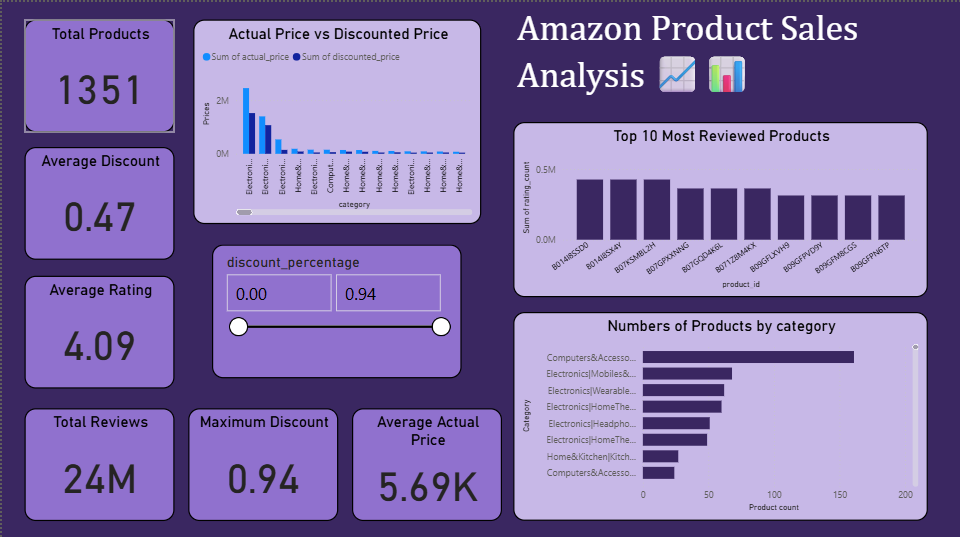

This screenshot's page, from the dashboard's own definition file:
{"tool":"powerbi","page":{"name":"Page 1","canvas":[1280,720],"ordinal":0},"visuals":[{"type":"card","title":"Average Discount","fields":{"Values":["amazon.Avg Discount"]},"box":[30,193.3,200,150],"z":0},{"type":"card","title":"Total Products","fields":{"Values":["amazon.Total Products"]},"box":[30,23.3,200,150],"z":1000},{"type":"card","title":"Average Rating","fields":{"Values":["amazon.Avg Rating"]},"box":[30,365,200,150],"z":2000},{"type":"card","title":"Total Reviews","fields":{"Values":["amazon.Total Reviews"]},"box":[30,541.4,200,150],"z":3000},{"type":"clusteredBarChart","title":"Numbers of Products by category","fields":{"Category":["amazon.category"],"Y":["CountNonNull(amazon.product_id)"]},"box":[681.2,412.5,552.5,278.8],"z":4000},{"type":"clusteredColumnChart","title":"Actual Price vs Discounted Price","fields":{"Category":["amazon.category"],"Y":["Sum(amazon.actual_price)","Sum(amazon.discounted_price)"]},"box":[255.7,22.9,384.3,272.9],"z":5000},{"type":"card","title":"Maximum Discount","fields":{"Values":["amazon.Maximum Discount"]},"box":[248.6,541.4,200,150],"z":6000},{"type":"slicer","fields":{"Values":["amazon.discount_percentage"]},"box":[280,322.9,332.9,178.6],"z":7000},{"type":"card","title":"Average Actual Price","fields":{"Values":["amazon.Avg Actual Price"]},"box":[467.1,541.4,200,150],"z":7001},{"type":"textbox","box":[681.2,0,553.8,136.2],"z":7002},{"type":"image","box":[870,223.8,230,71.2],"z":7003},{"type":"clusteredColumnChart","title":"Top 10 Most Reviewed Products","fields":{"Y":["Sum(amazon.rating_count)"],"Category":["amazon.product_id"]},"box":[681.2,160,552.5,233.8],"z":7004}]}

Visuals, with their boxes in screenshot pixels (x1, y1, x2, y2), scaled from the page's 1280x720 canvas onto the 960x537 screenshot:
"Average Discount" card: bbox(22, 144, 172, 256)
"Total Products" card: bbox(22, 17, 172, 129)
"Average Rating" card: bbox(22, 272, 172, 384)
"Total Reviews" card: bbox(22, 404, 172, 516)
"Numbers of Products by category" clusteredBarChart: bbox(511, 308, 925, 516)
"Actual Price vs Discounted Price" clusteredColumnChart: bbox(192, 17, 480, 221)
"Maximum Discount" card: bbox(186, 404, 336, 516)
slicer - amazon.discount_percentage: bbox(210, 241, 460, 374)
"Average Actual Price" card: bbox(350, 404, 500, 516)
textbox: bbox(511, 0, 926, 102)
image: bbox(652, 167, 825, 220)
"Top 10 Most Reviewed Products" clusteredColumnChart: bbox(511, 119, 925, 294)
